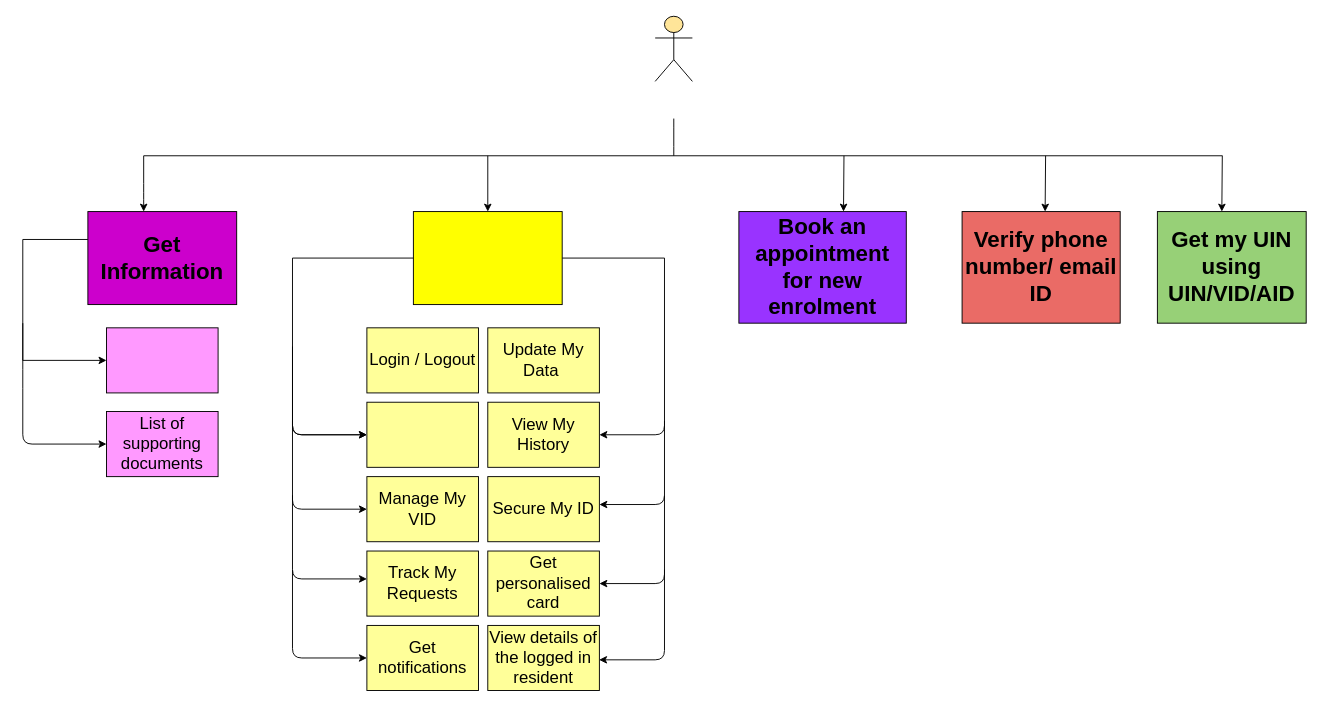
Image size: 1322x707. Some labels were removed from this diagram. The centre of each missing label's shape, as x and y in pixels:
"List of registration centers" belongs at pixel 162 360.
"Share My Data" belongs at pixel 422 434.
"The resident" belongs at pixel 673 48.
"UIN services" belongs at pixel 487 258.
